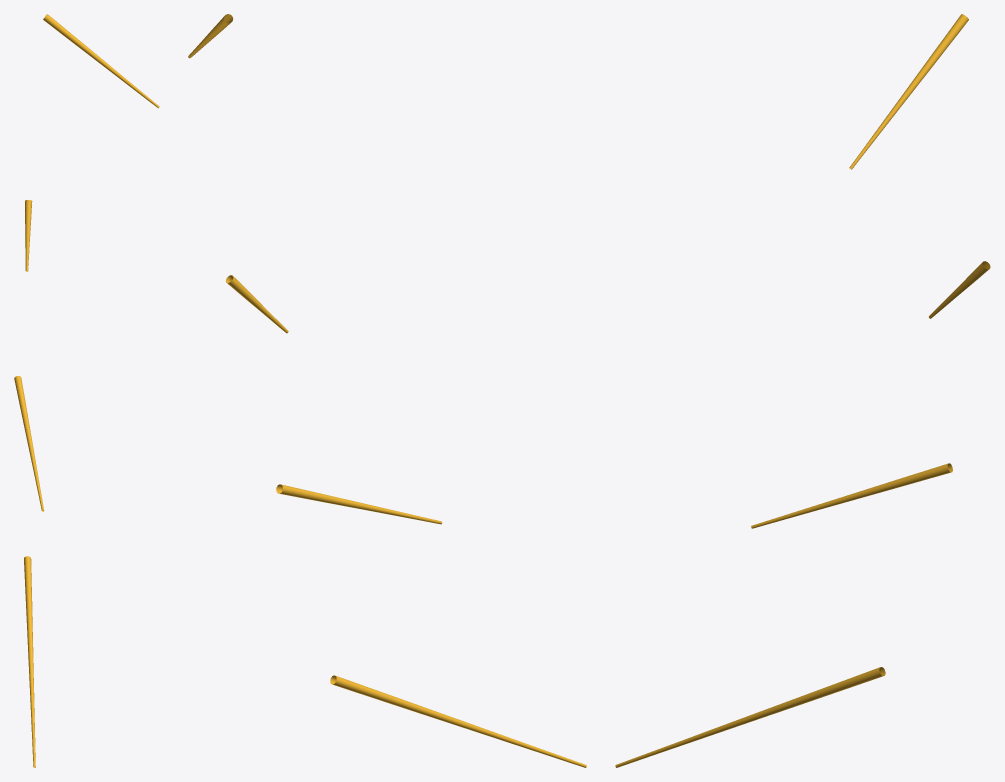
The model's file is nervoso-muscular-branches-of-median-nerve-l.glb.
3 views of the same model, side by side, from view 1: azimuth 30°, elevation 25°; view 2: azimuth 150°, elevation 25°; view 3: azimuth 270°, elevation 25° (orthographic). The views are drawn at different scales.
Parts seen in each view (by area): view 1: Muscular branches of median nerve.l; view 2: Muscular branches of median nerve.l; view 3: Muscular branches of median nerve.l.
Boxes of the visible parts, <box> form: Muscular branches of median nerve.l: <box>14,14,159,767</box>; Muscular branches of median nerve.l: <box>188,14,586,767</box>; Muscular branches of median nerve.l: <box>615,14,990,767</box>.
Size of the model in its own units: 0.0203 by 0.0569 by 0.0229.
